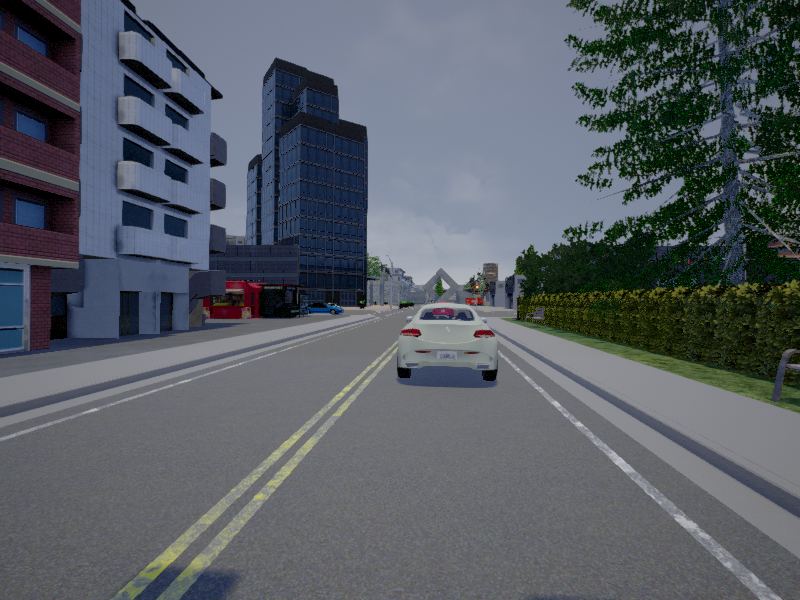Benign: (399, 305, 496, 384), (305, 301, 344, 314)
